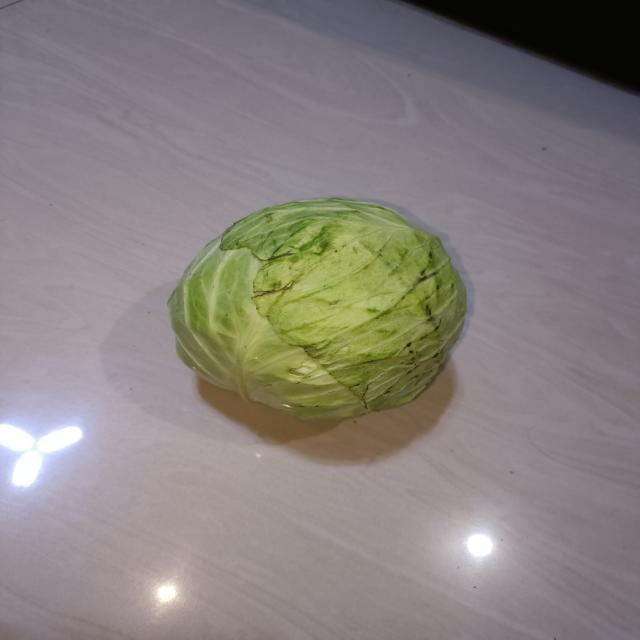cabbage: (164, 194, 476, 428)
